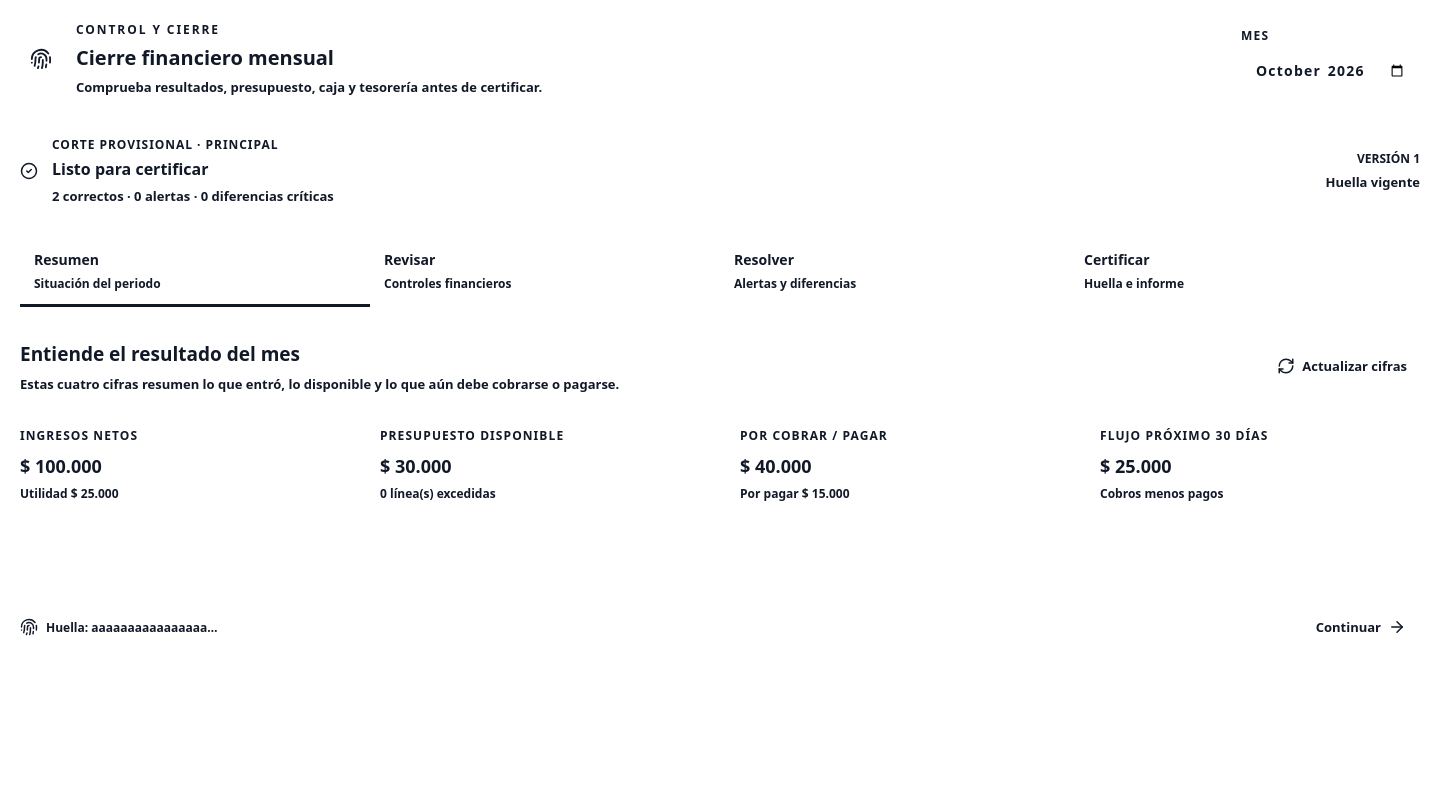
Test: Cierre financiero mensual › muestra la primera certificación como versión 1 y evita duplicarla sin cambios
Expected: the text "Versión 1" is shown, 1357,150 -> 1420,167
Click the button with aria-label "Certificar: Huella e informe" at (1117, 259), box 1070,238 -> 1420,307
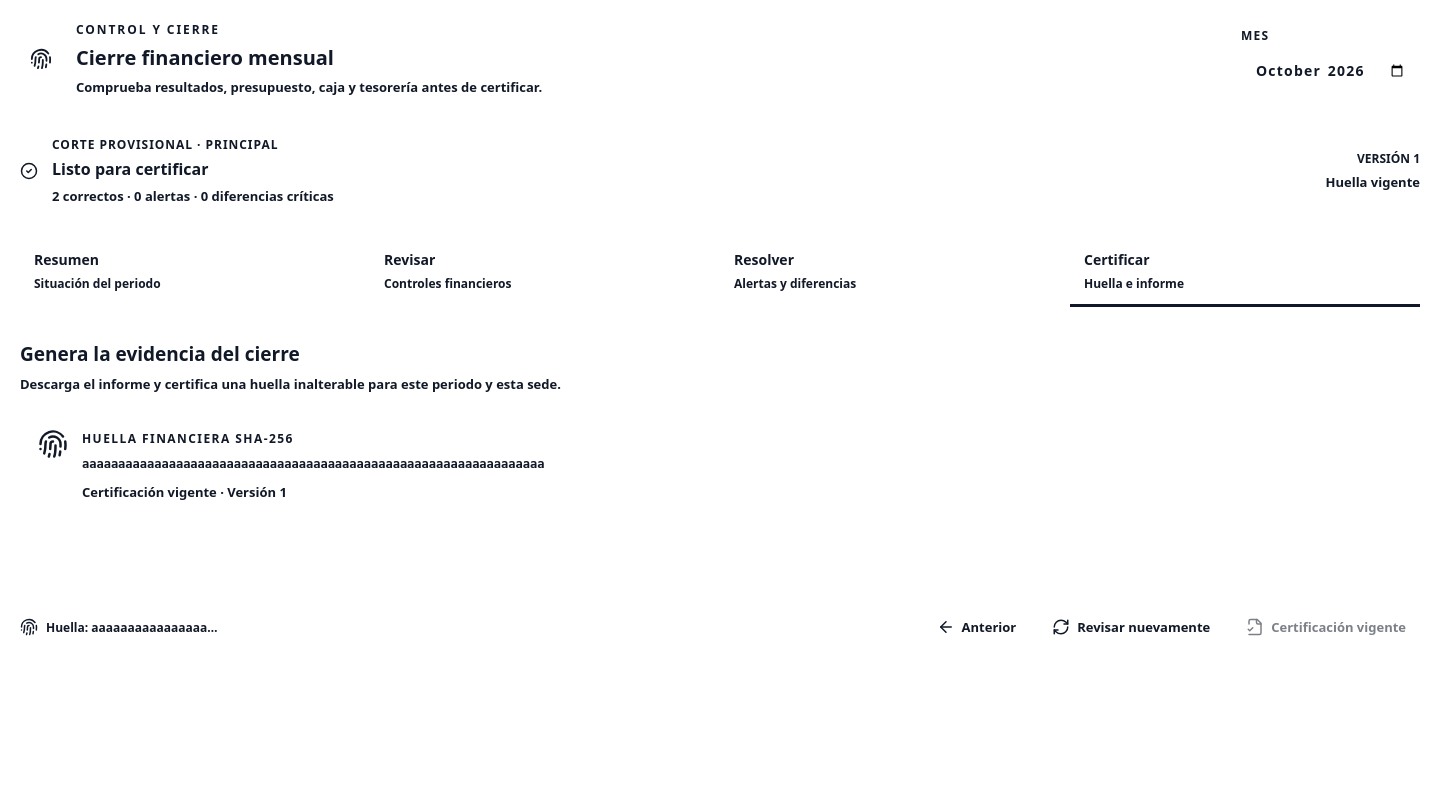
Expected: the button "Certificación vigente" is disabled, 1232,607 -> 1420,647
